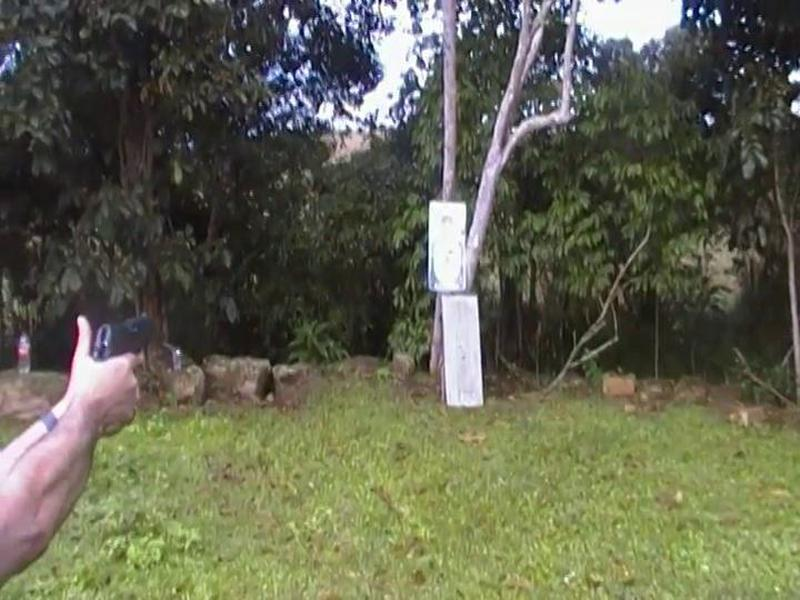Pistola: (65, 287, 179, 392)
